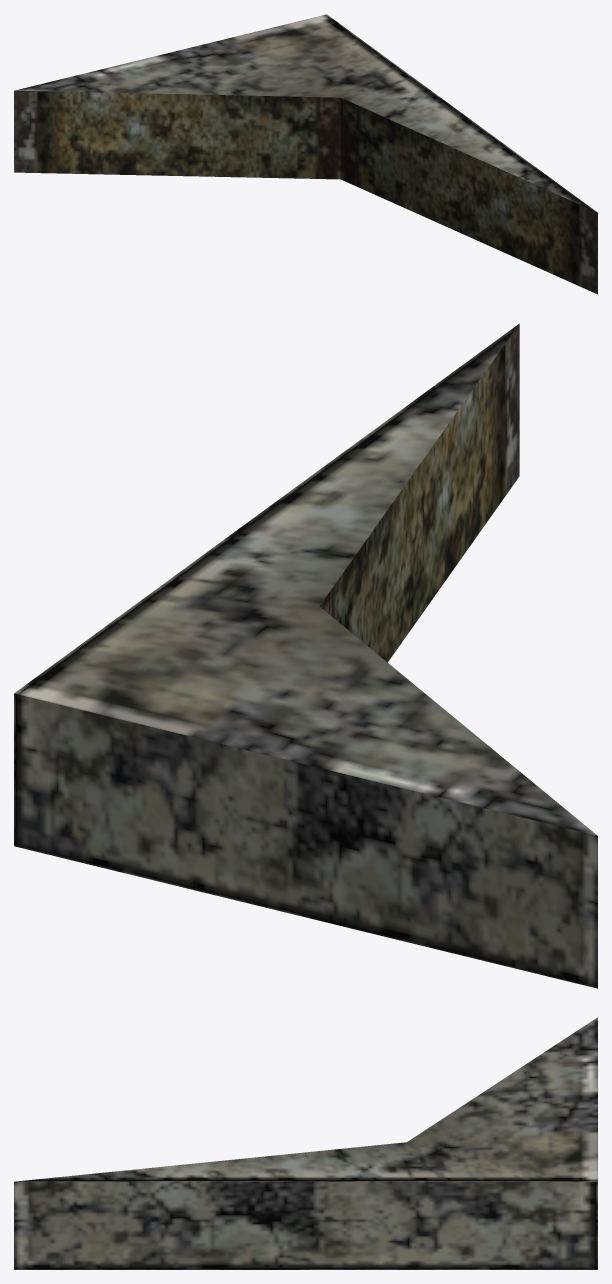
File: M10_Rubble02.glb
3 renders of one model, top to bottom at view 1: azimuth 30°, elevation 25°; view 2: azimuth 150°, elevation 25°; view 3: azimuth 270°, elevation 25°, orthographic. The views are drawn at different scales.
Parts seen in each view (by area): view 1: M10_RUBBLE02; view 2: M10_RUBBLE02; view 3: M10_RUBBLE02.
Boxes of the visible parts, bbox=[...] form: M10_RUBBLE02: bbox=[14, 14, 597, 294]; M10_RUBBLE02: bbox=[14, 323, 597, 988]; M10_RUBBLE02: bbox=[14, 1017, 597, 1269].
Size of the model in its own units: 2 by 0.5 by 3.
2 materials, 2 textured.
